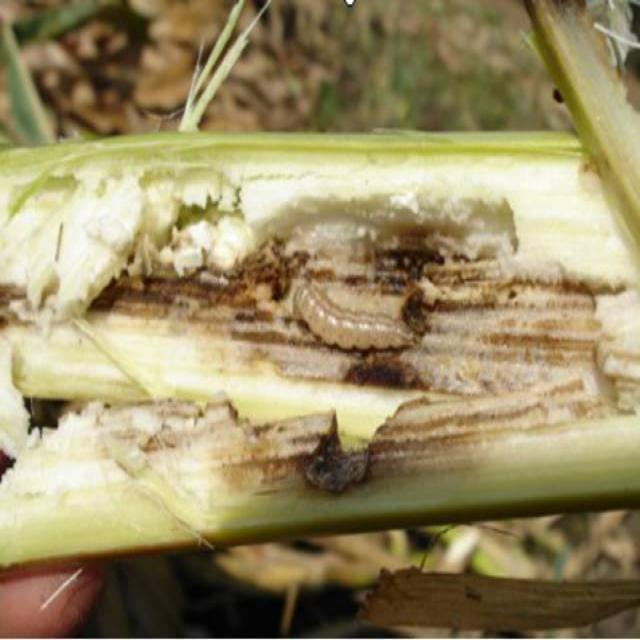pest: (297, 285, 435, 353)
